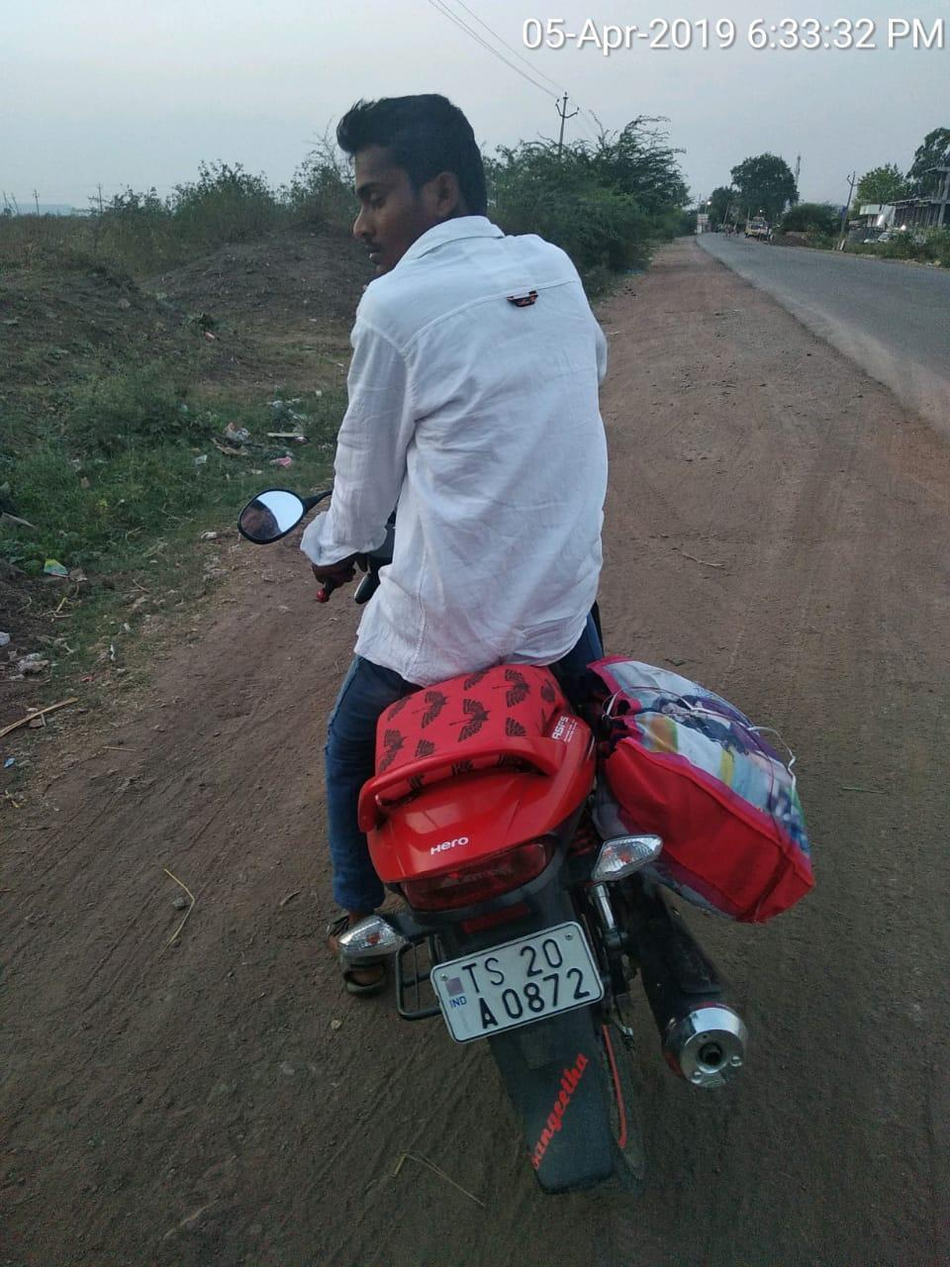plate: (415, 924, 618, 1043)
